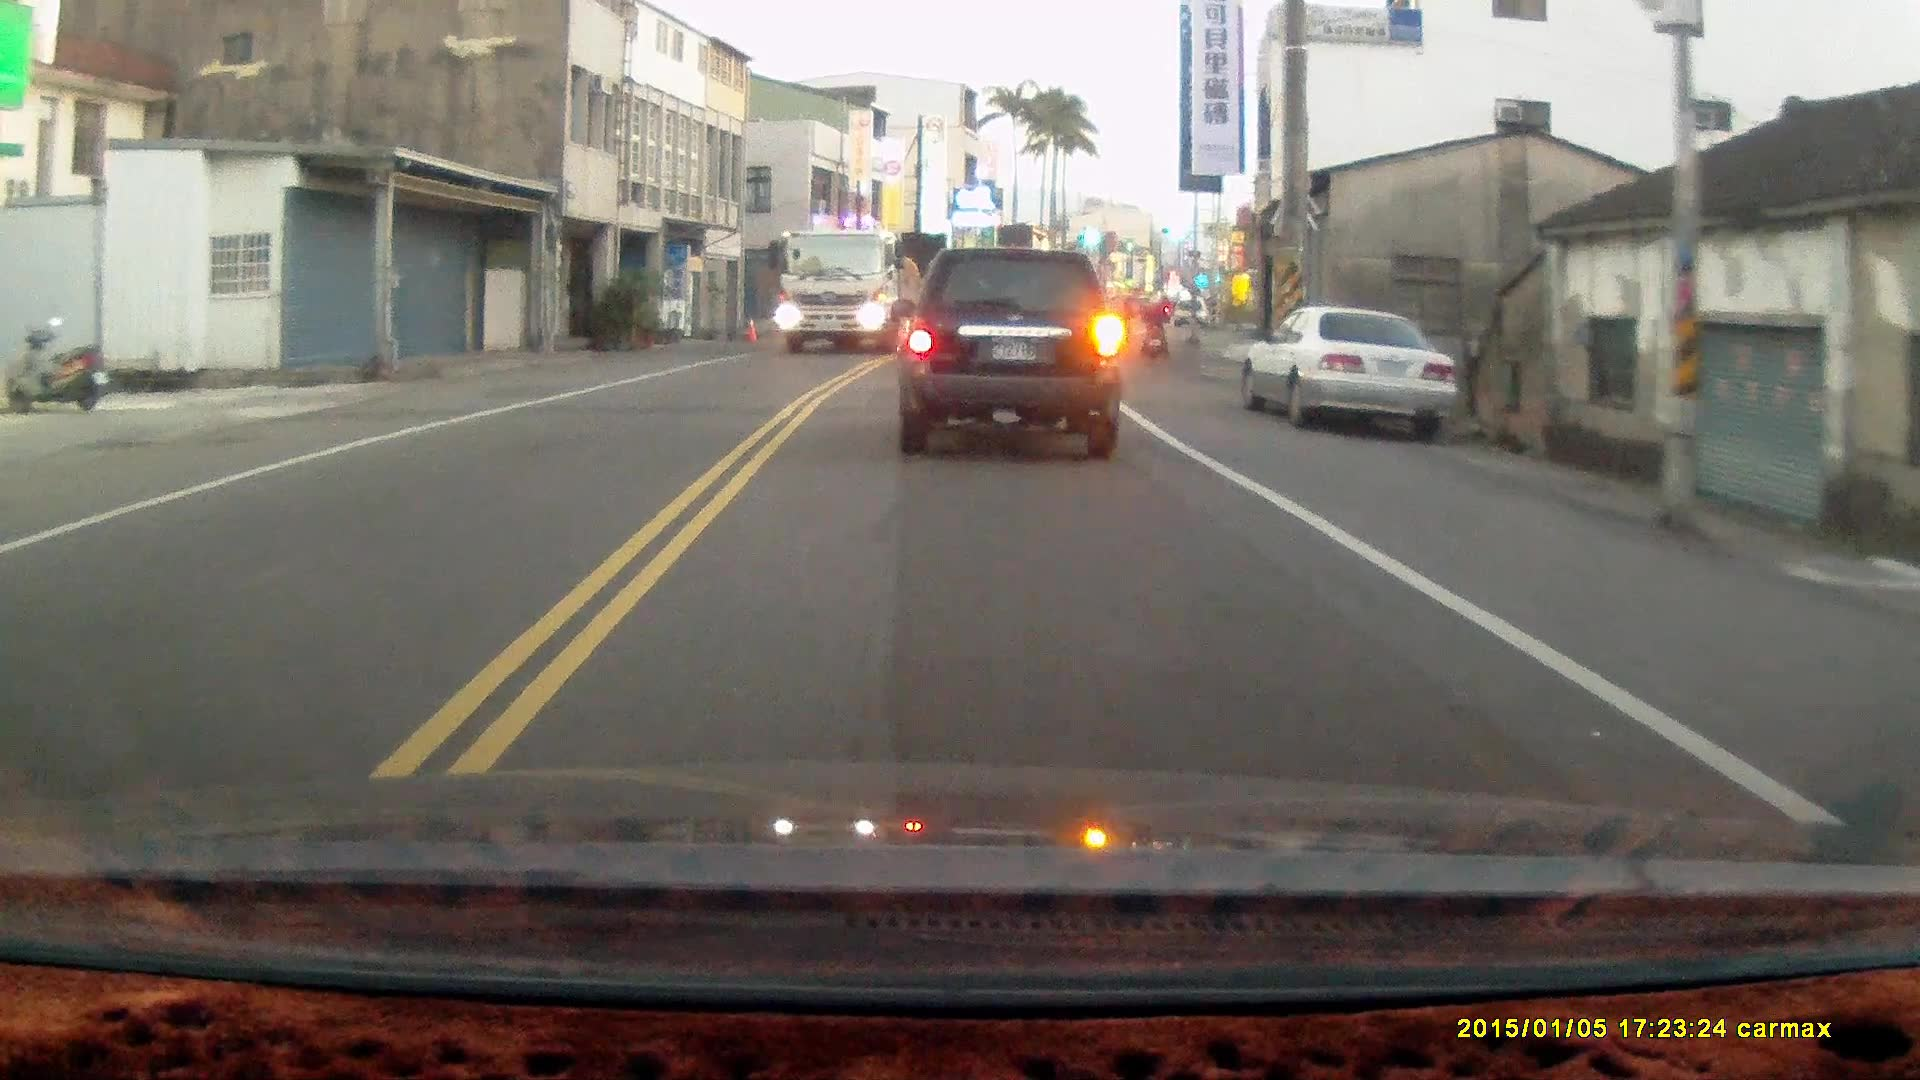rider: (1138, 290, 1169, 362), (1106, 291, 1134, 355)
vehicle: (891, 251, 1132, 460), (1245, 305, 1466, 439), (774, 232, 925, 358)
